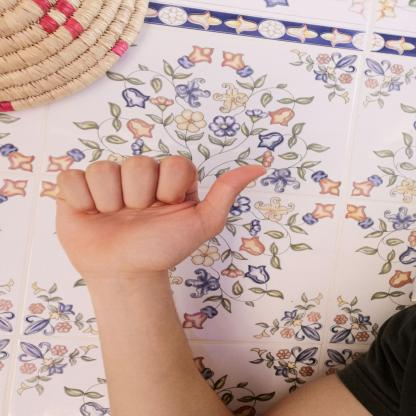DAD: (40, 148, 278, 285)
